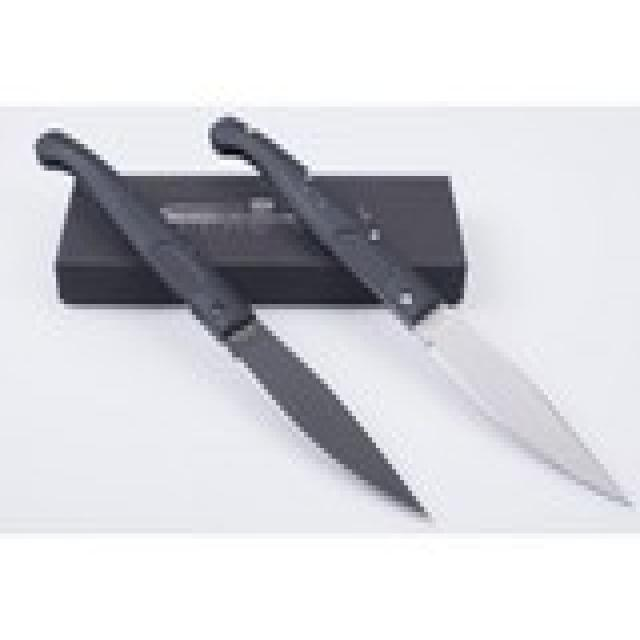Knife: (32, 121, 639, 517)
